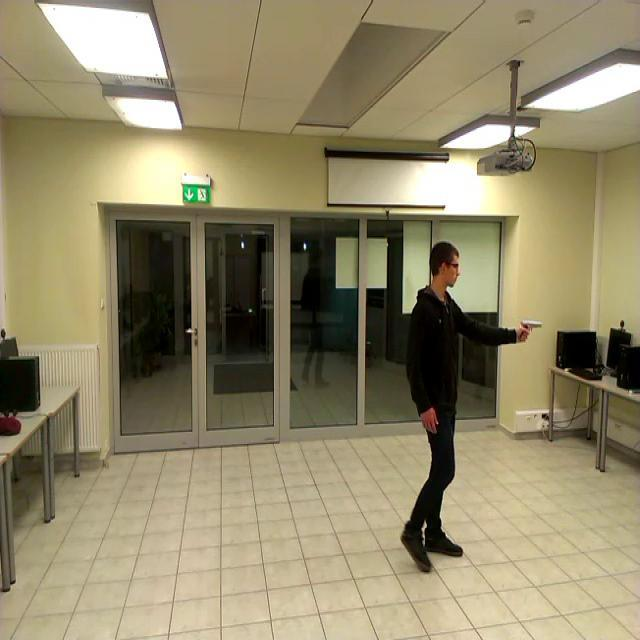Gun: (520, 318, 544, 340)
